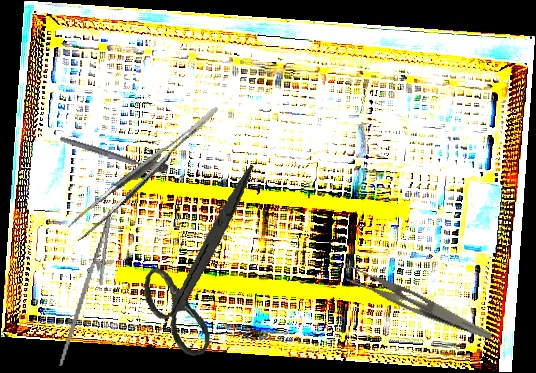Dressing Forceps: (337, 260, 499, 341)
Iris Scissors: (129, 165, 277, 361)
Needle Holder: (58, 205, 125, 373)
Surgical Spoon: (59, 135, 168, 177)
Tissue Forceps: (56, 106, 238, 242)
